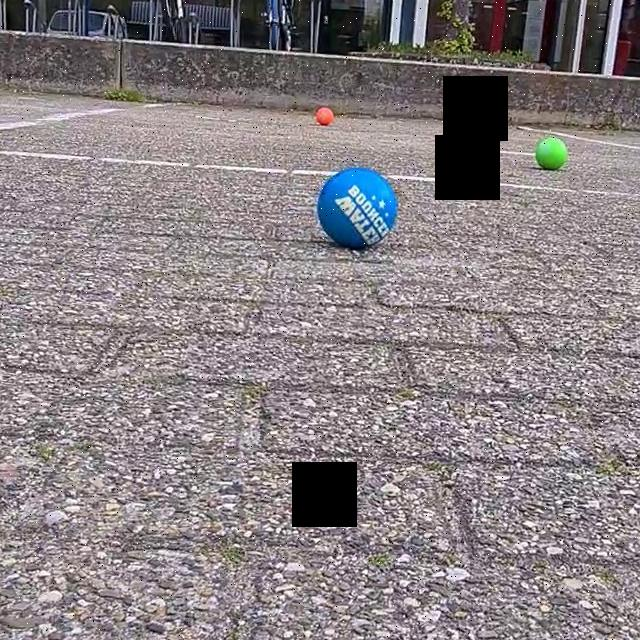ball: (533, 134, 570, 172), (312, 102, 333, 129)
